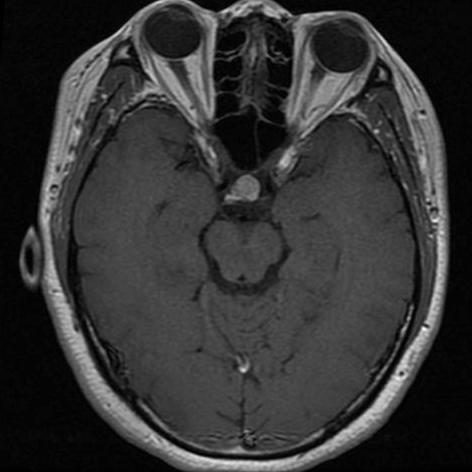Tumour-Pituitary: (226, 174, 261, 208)
